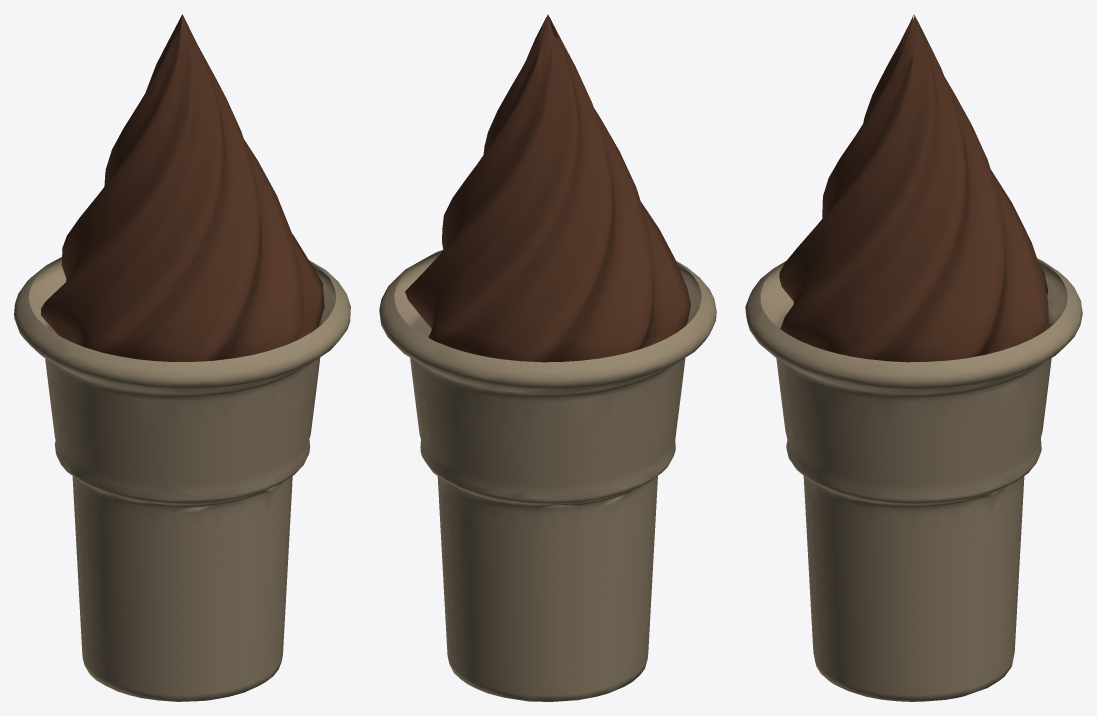
Rendered from IceCream.fbx.
The picture shows the model from 3 angles, left to right: view 1: azimuth 30°, elevation 25°; view 2: azimuth 150°, elevation 25°; view 3: azimuth 270°, elevation 25°; orthographic projection.
Visible parts, largest first — view 1: IceCream; view 2: IceCream; view 3: IceCream.
Boxes of the visible parts, x1,y1,x2,y2 form: IceCream: (14,14,350,701); IceCream: (379,14,716,701); IceCream: (745,14,1082,701).
Bounding box in the file's own units: 39.83 × 84.31 × 39.82.
